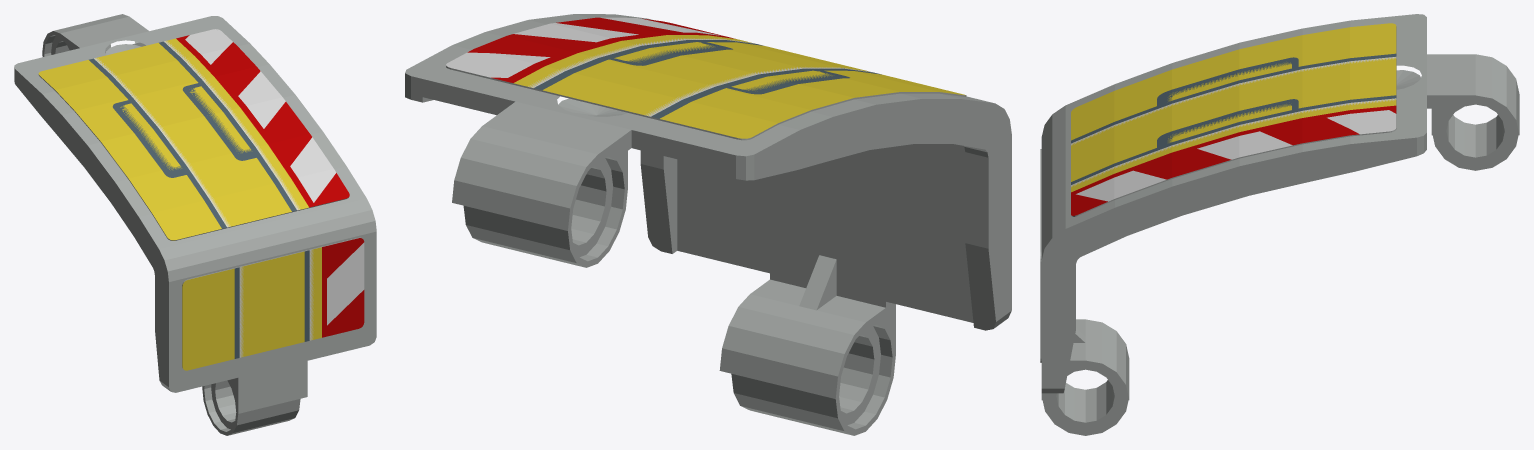
3 renders of one model, left to right at view 1: azimuth 30°, elevation 25°; view 2: azimuth 150°, elevation 25°; view 3: azimuth 270°, elevation 25°, orthographic. The views are drawn at different scales.
Visible parts, largest first — view 1: world; view 2: world; view 3: world.
Part boxes in pixels (x1,y1,x2,y2): world: [14, 14, 376, 435]; world: [405, 14, 1011, 435]; world: [1040, 14, 1519, 435].
Bounding box in the file's own units: 0.024 × 0.0312 × 0.0393.
